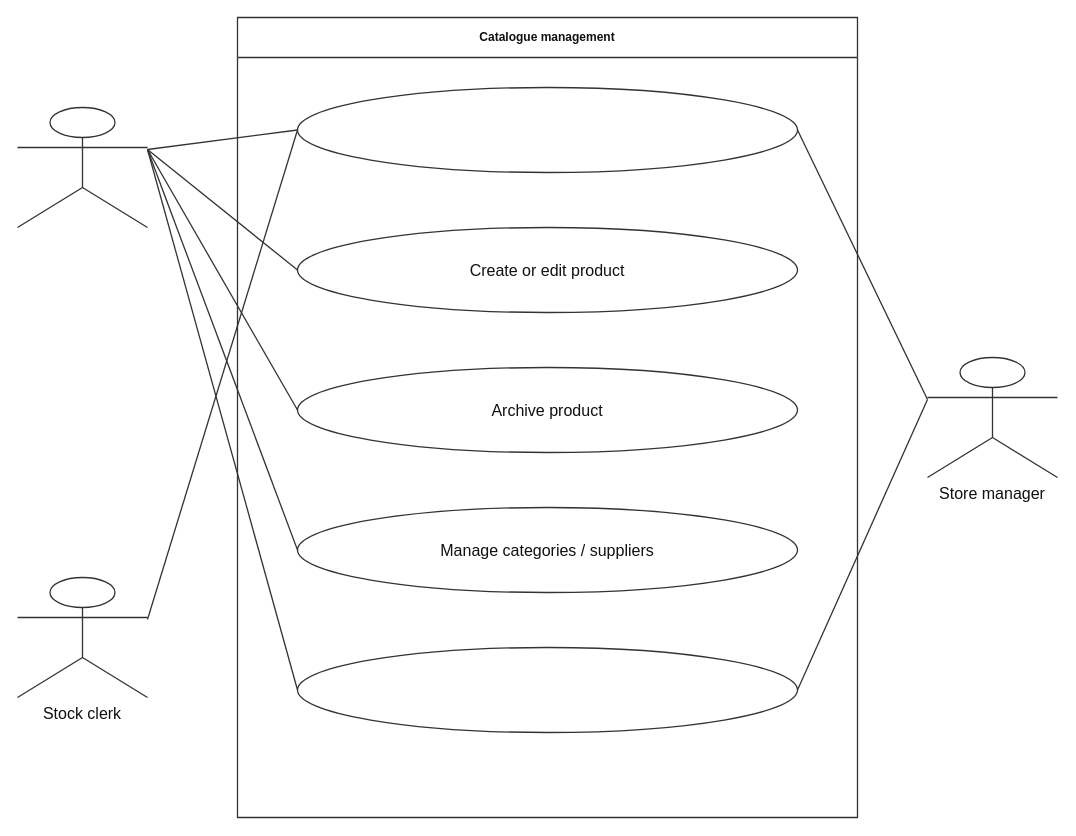
Some shapes in this 1076 by 836 pixel diagram are drawn without their labels. The shapes that lost their labels are listed below. From the top down, each one's centre as x and y in pixels, then its label:
At (547,129): "Inspect inventory".
At (82,167): "Administrator".
At (547,689): "Update stock thresholds".
